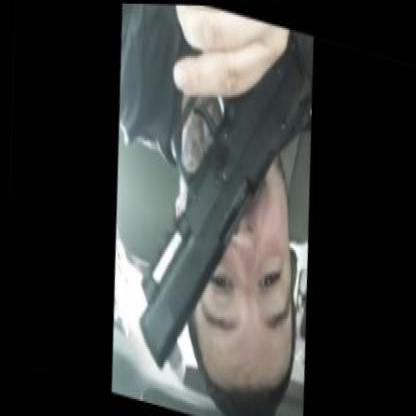pistol: (117, 3, 326, 408)
